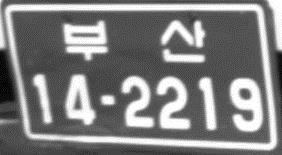-: (98, 92, 117, 109)
1: (193, 73, 219, 132), (29, 70, 55, 127)
2: (154, 73, 191, 132), (119, 73, 156, 129)
4: (63, 71, 98, 127)
9: (228, 76, 264, 134)
부산_D: (59, 17, 207, 65)
